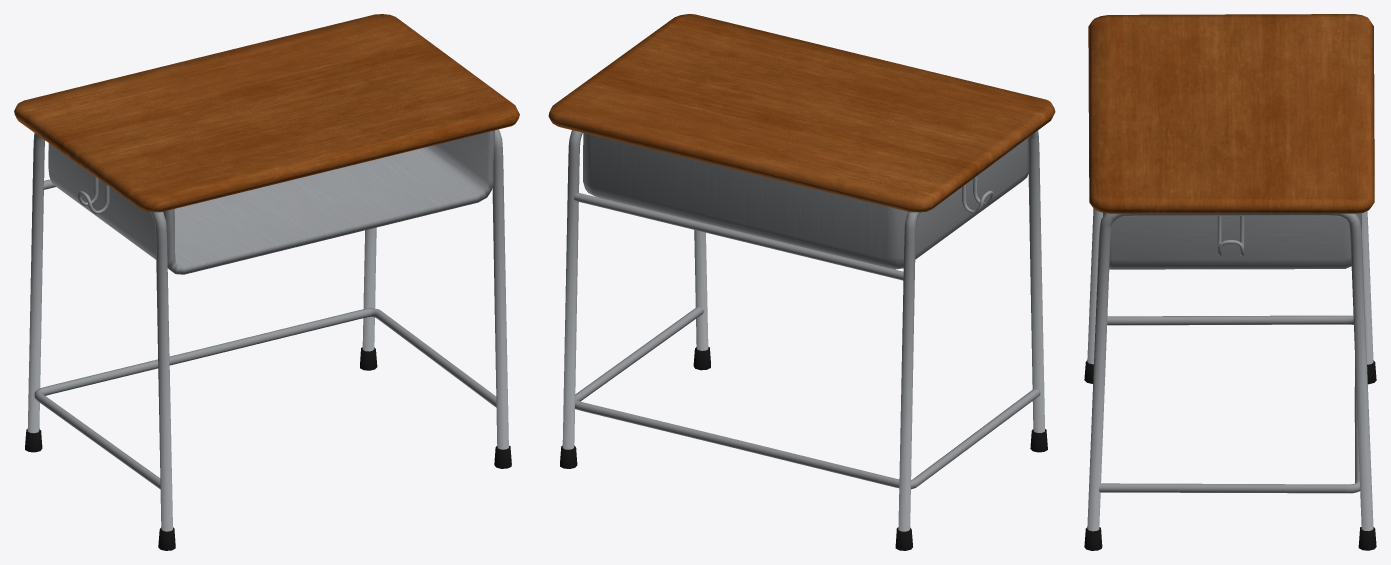
File: School_Desk.fbx
The picture shows the model from 3 angles, left to right: view 1: azimuth 30°, elevation 25°; view 2: azimuth 150°, elevation 25°; view 3: azimuth 270°, elevation 25°; orthographic projection.
Visible parts, largest first — view 1: School_Desk; view 2: School_Desk; view 3: School_Desk.
Boxes of the visible parts, x1,y1,x2,y2 form: School_Desk: (14, 14, 519, 550); School_Desk: (548, 14, 1055, 550); School_Desk: (1084, 14, 1376, 550).
Bounding box in the file's own units: 92.07 × 80.63 × 60.03.
1 material, 1 textured.
